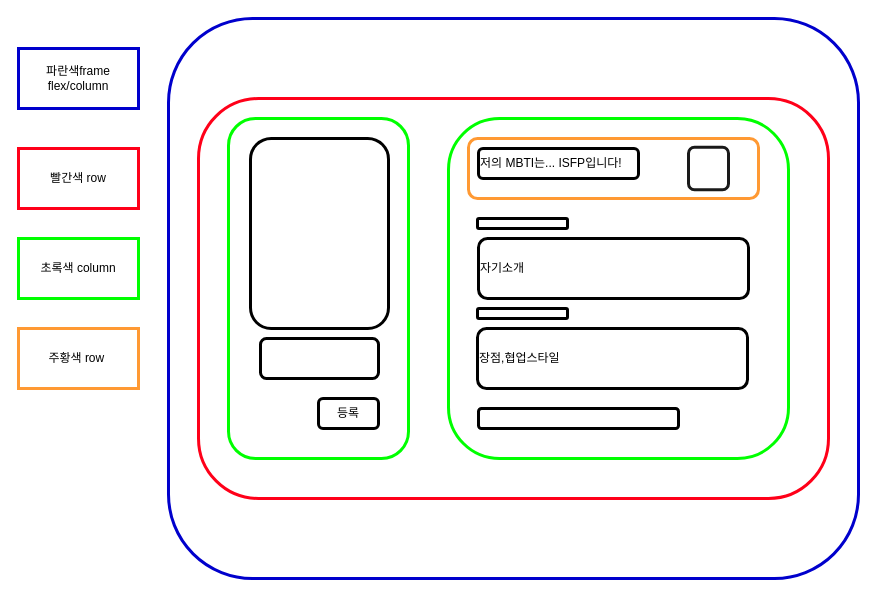
Image size: 877x597. Some labels were removed from this diagram. Here are the shapes that lost their labels. From the top down, the centre of each, then its label:
[708,168]: 이미지
[319,233]: 히스토리
[319,358]: 코멘트
[578,418]: 블로그
